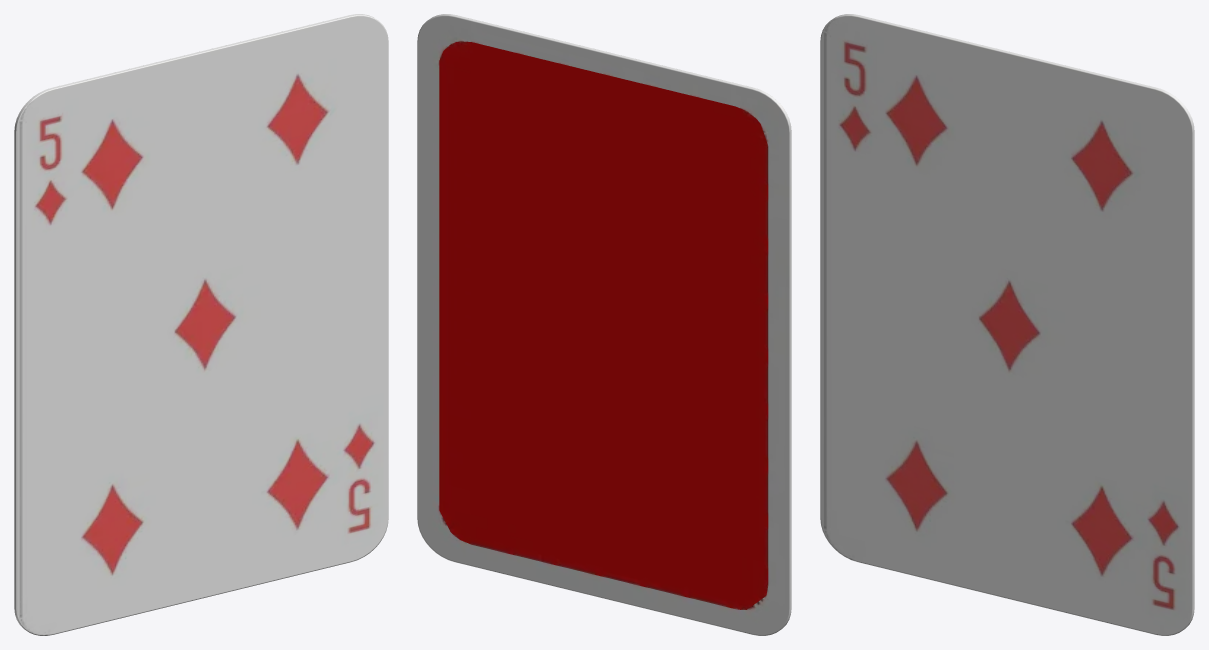
Rendered from diamonds_5.glb.
The picture shows the model from 3 angles, left to right: view 1: azimuth 30°, elevation 25°; view 2: azimuth 150°, elevation 25°; view 3: azimuth 330°, elevation 25°; orthographic projection.
Visible parts, largest first — view 1: defaultMaterial.031; view 2: defaultMaterial.031; view 3: defaultMaterial.031.
Boxes of the visible parts, bbox=[...] form: defaultMaterial.031: bbox=[14, 14, 388, 635]; defaultMaterial.031: bbox=[417, 14, 791, 635]; defaultMaterial.031: bbox=[820, 14, 1194, 635].
Bounding box in the file's own units: 0.1408 × 0.1972 × 0.00111.
1 material, 1 textured.
